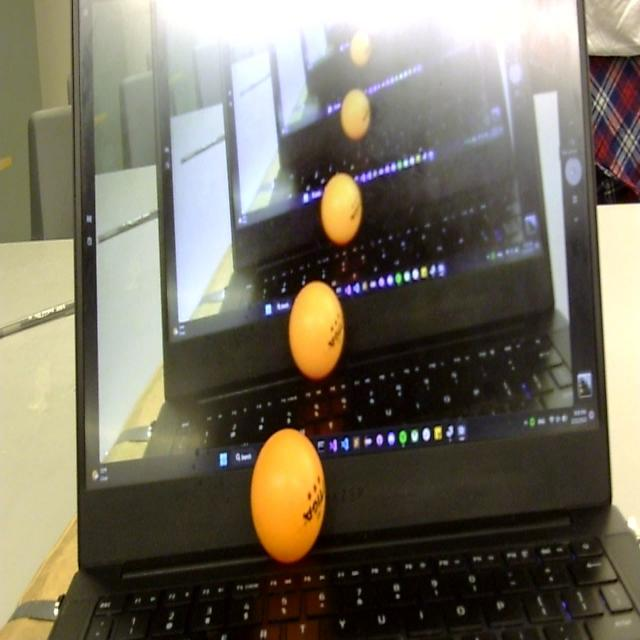ball: (250, 425, 326, 571), (287, 279, 346, 383), (318, 170, 362, 253), (339, 85, 373, 145), (347, 25, 377, 71)
